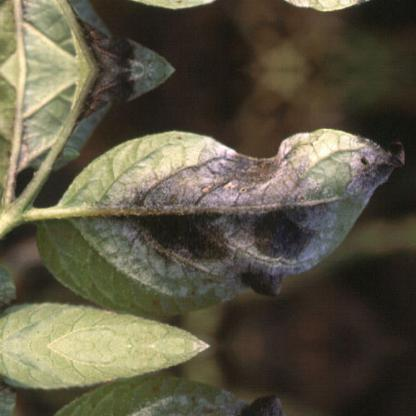Late-Blight: (28, 128, 410, 318), (27, 372, 410, 416)
